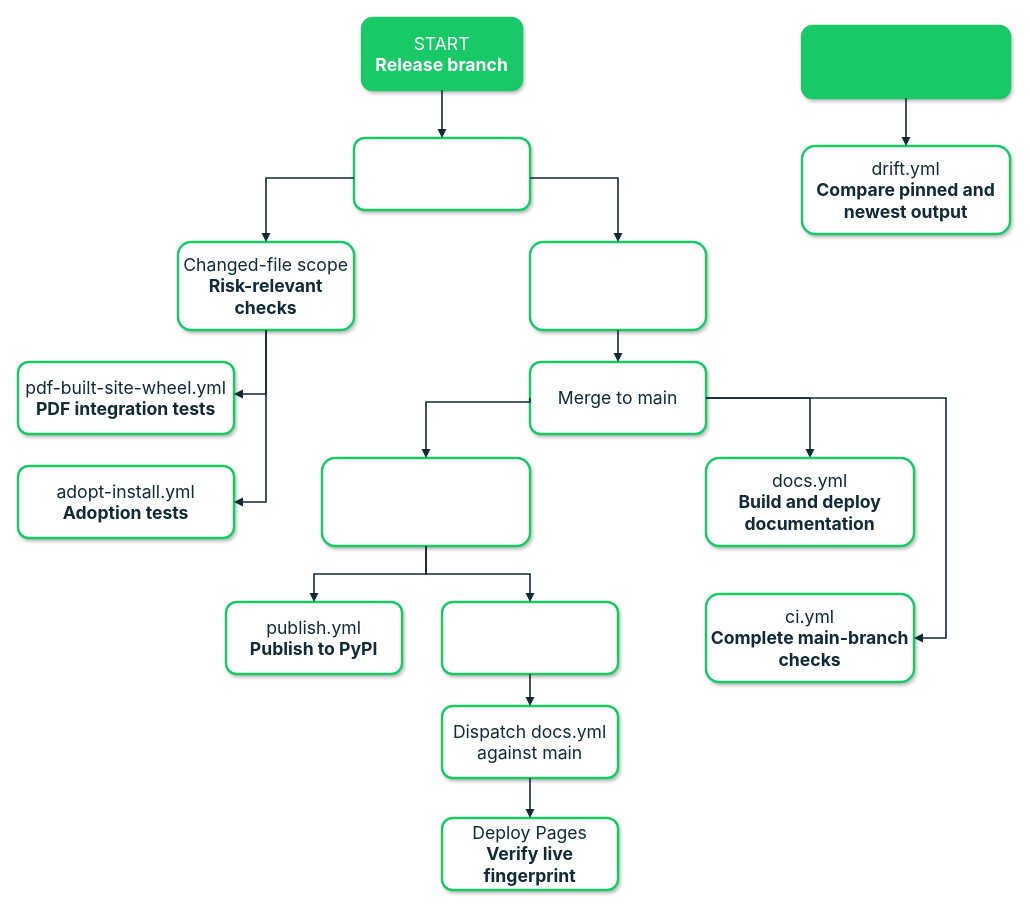
This 1030x910 diagram has some shape labels left out. The shapes that lost their labels are listed below. From the top down, each one's centre as x and y in pixels, then its label:
the point at 906,62: SCHEDULED TRIGGER Every Monday
the point at 442,174: Pull request
the point at 618,286: ci.yml Core checks
the point at 426,502: After checks pass Publish GitHub release prodockit-vX.Y.Z
the point at 530,638: release-redeploy.yml
